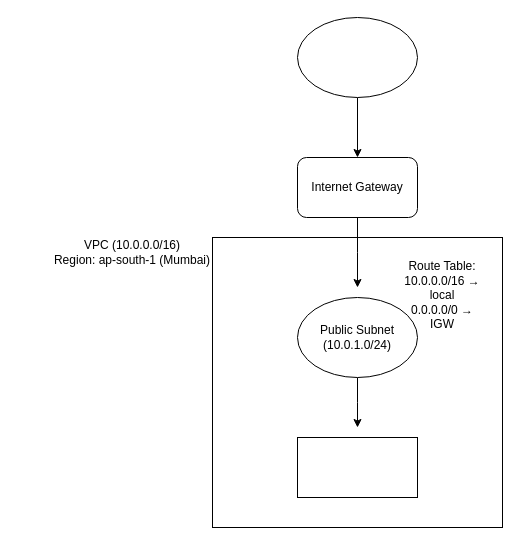
Image size: 520x545. Some labels were removed from this diagram. Here are the shapes that lost their labels. From the top down, the centre of each, then its label:
pixel 357 57: Internet
pixel 357 467: EC2 (Apache Web Server)
